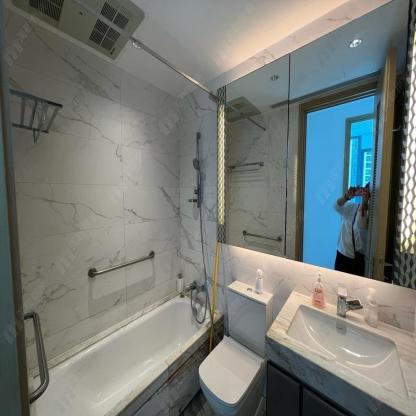Bathtub: (27, 288, 224, 415)
Faucet: (337, 282, 361, 326)
Toilet: (198, 278, 273, 415)
Toilet Sink: (266, 290, 416, 415)
